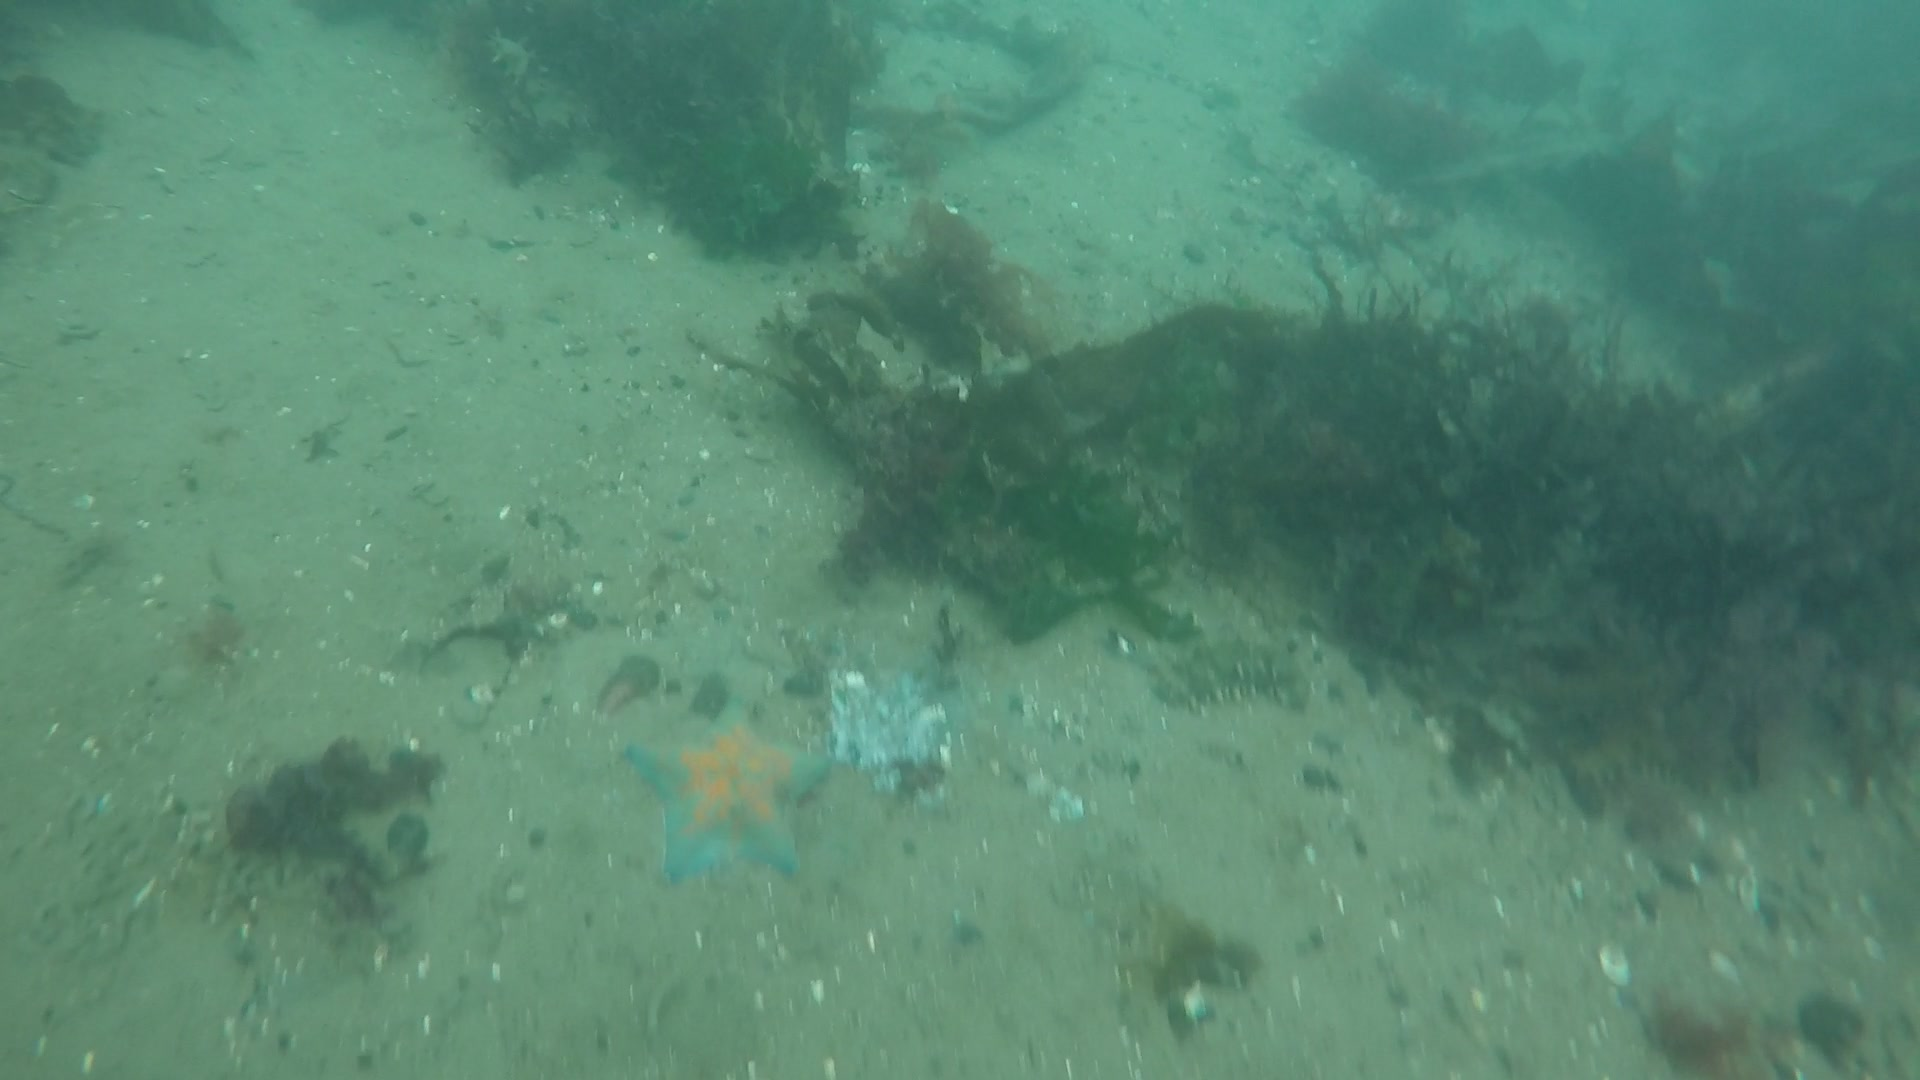holothurian: (1147, 640, 1319, 712)
starfish: (607, 713, 836, 884)
